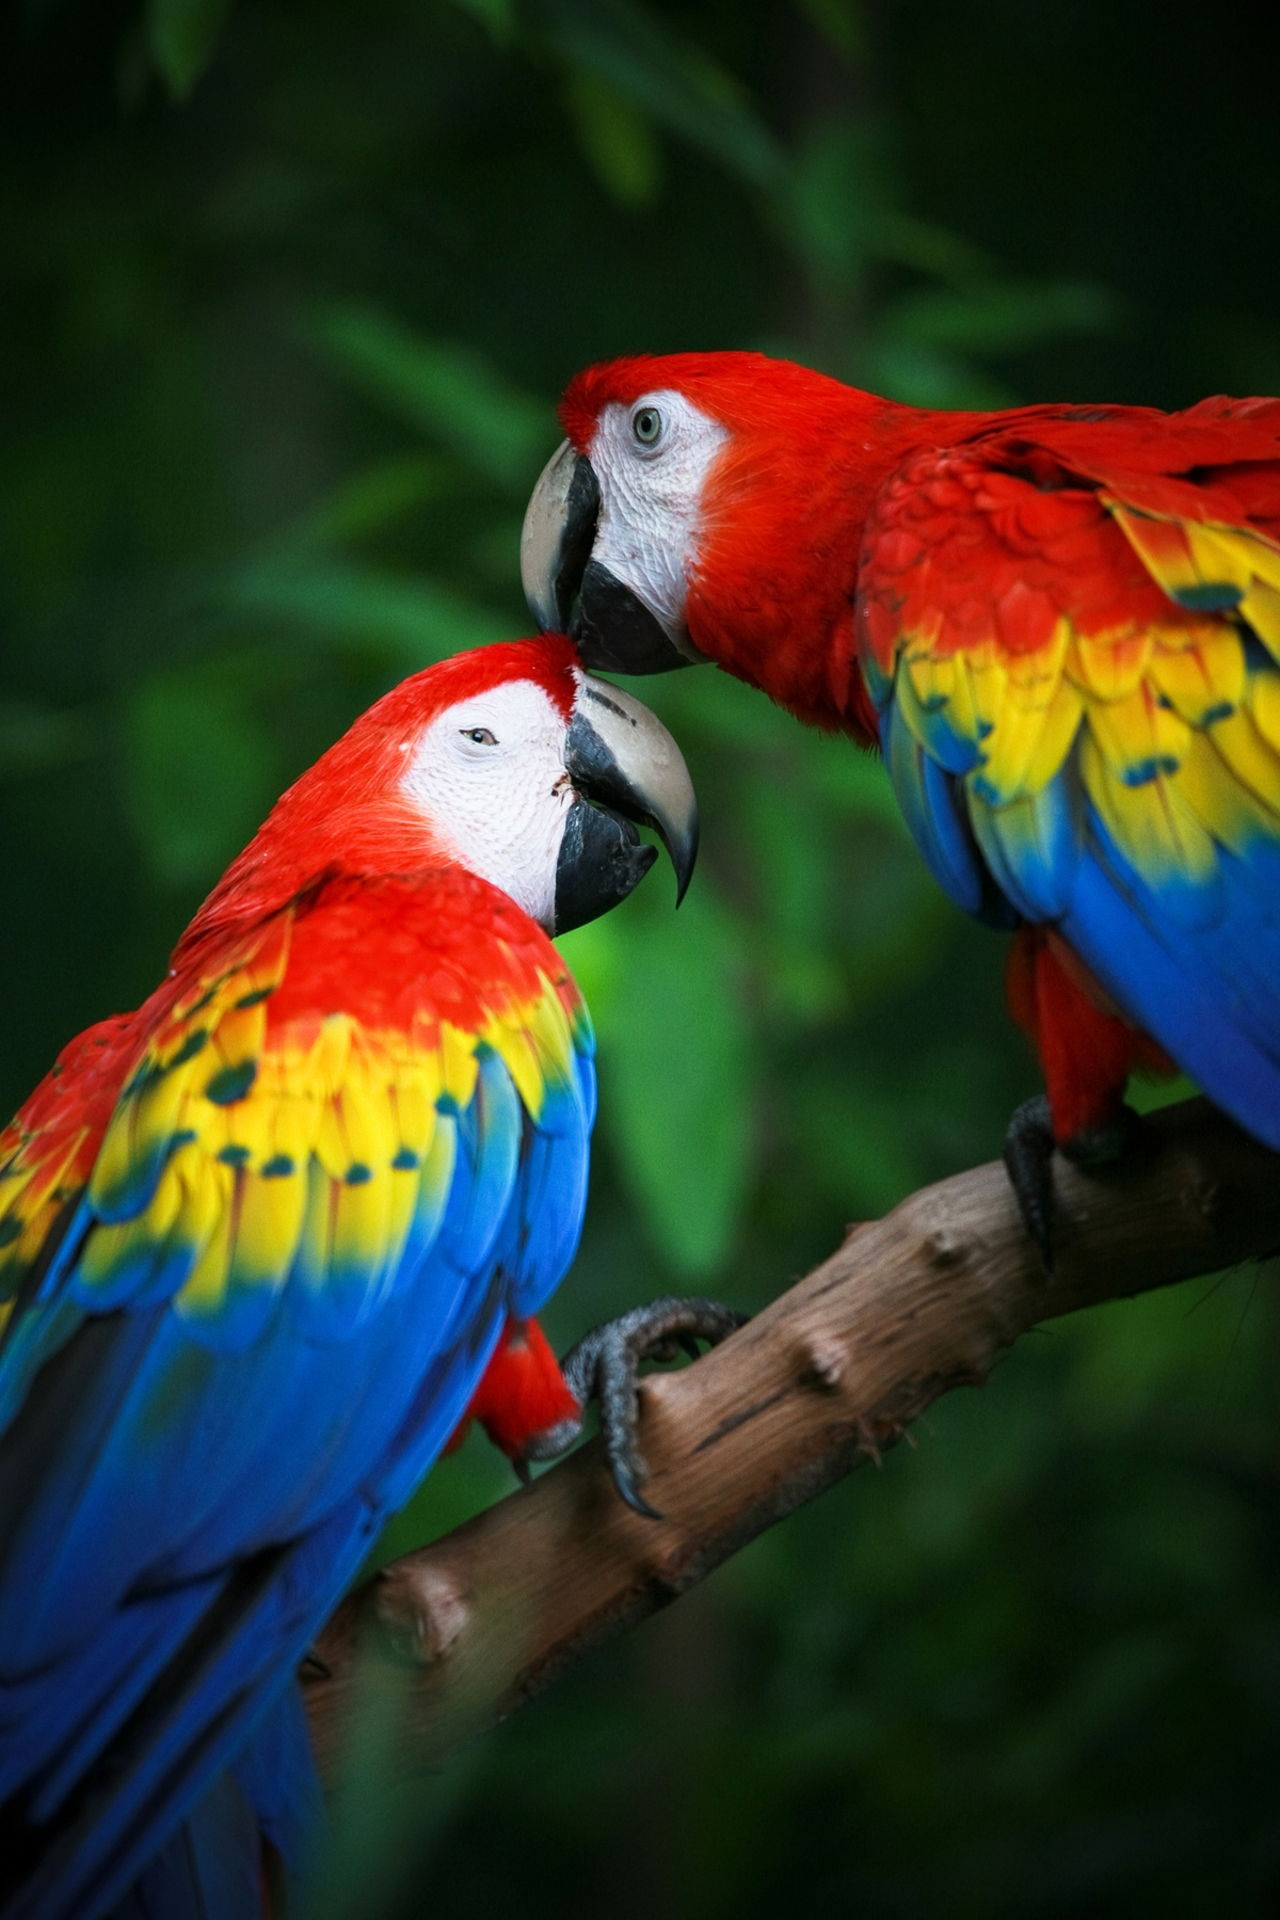Lapa: (29, 597, 704, 1863), (489, 284, 1280, 1189)
